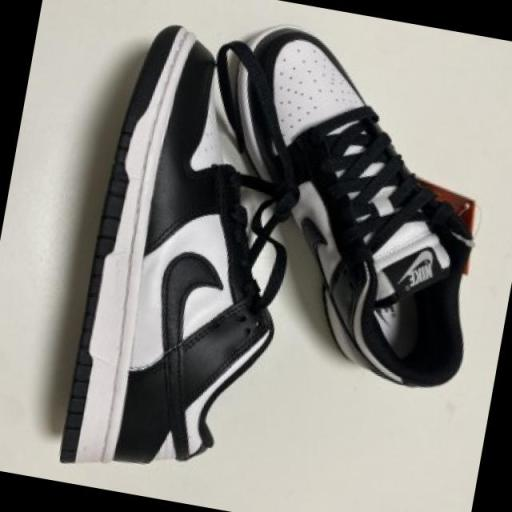Nike: (133, 248, 222, 442), (406, 260, 435, 294)
